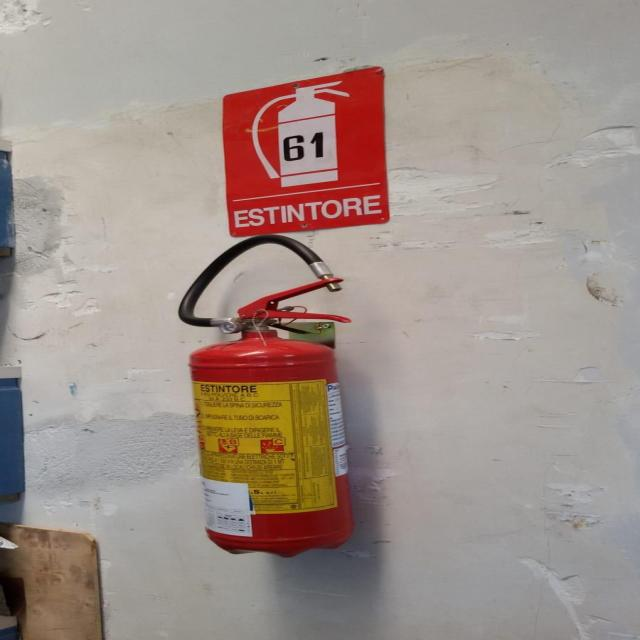fire_extinguisher: (172, 231, 363, 559)
